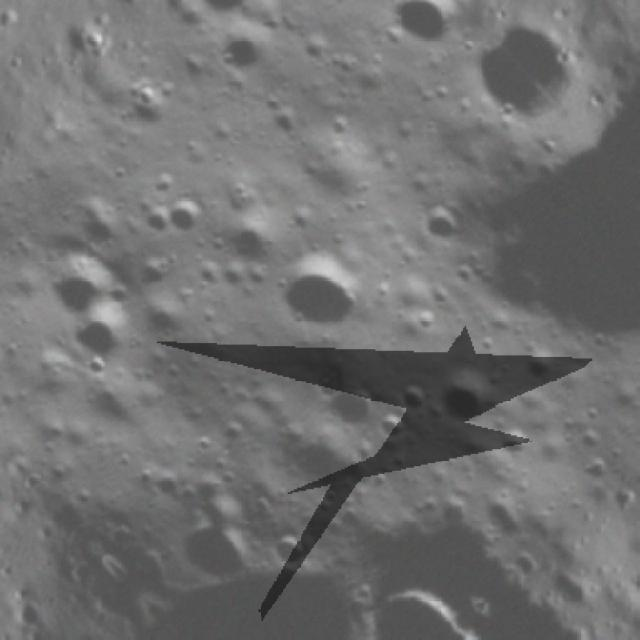crater: (435, 118, 640, 393), (266, 244, 380, 358), (326, 554, 468, 640), (448, 34, 555, 144), (162, 498, 263, 599), (364, 0, 478, 75), (62, 297, 146, 381), (307, 362, 390, 446), (428, 362, 506, 438), (86, 522, 156, 595), (40, 252, 111, 323), (406, 191, 476, 263), (260, 516, 329, 586), (213, 23, 281, 91), (155, 186, 217, 249), (225, 214, 287, 275), (392, 369, 443, 420), (195, 0, 264, 35), (372, 398, 418, 444), (0, 332, 18, 399)
